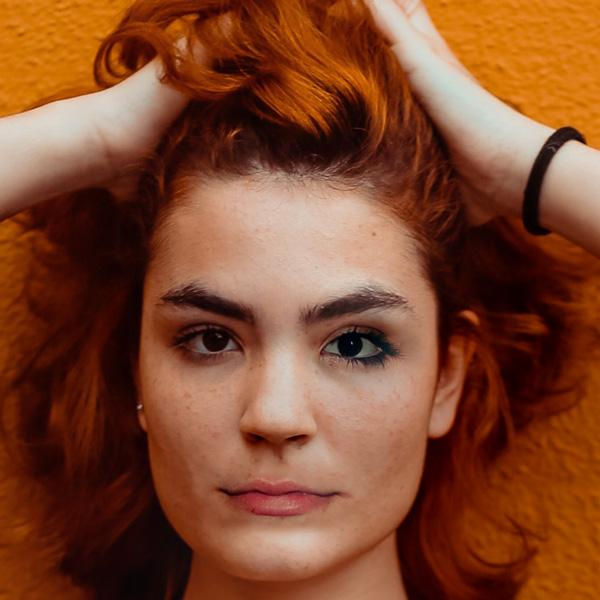Eyes: (307, 316, 402, 377), (161, 312, 254, 369)
